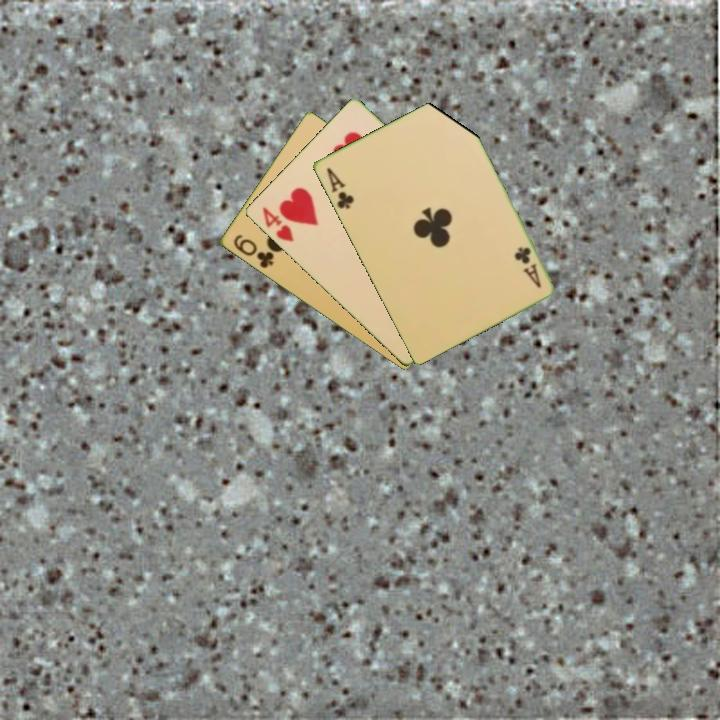4h: (258, 203, 296, 245)
6c: (229, 231, 276, 272)
Ac: (323, 164, 357, 212), (510, 243, 544, 291)
